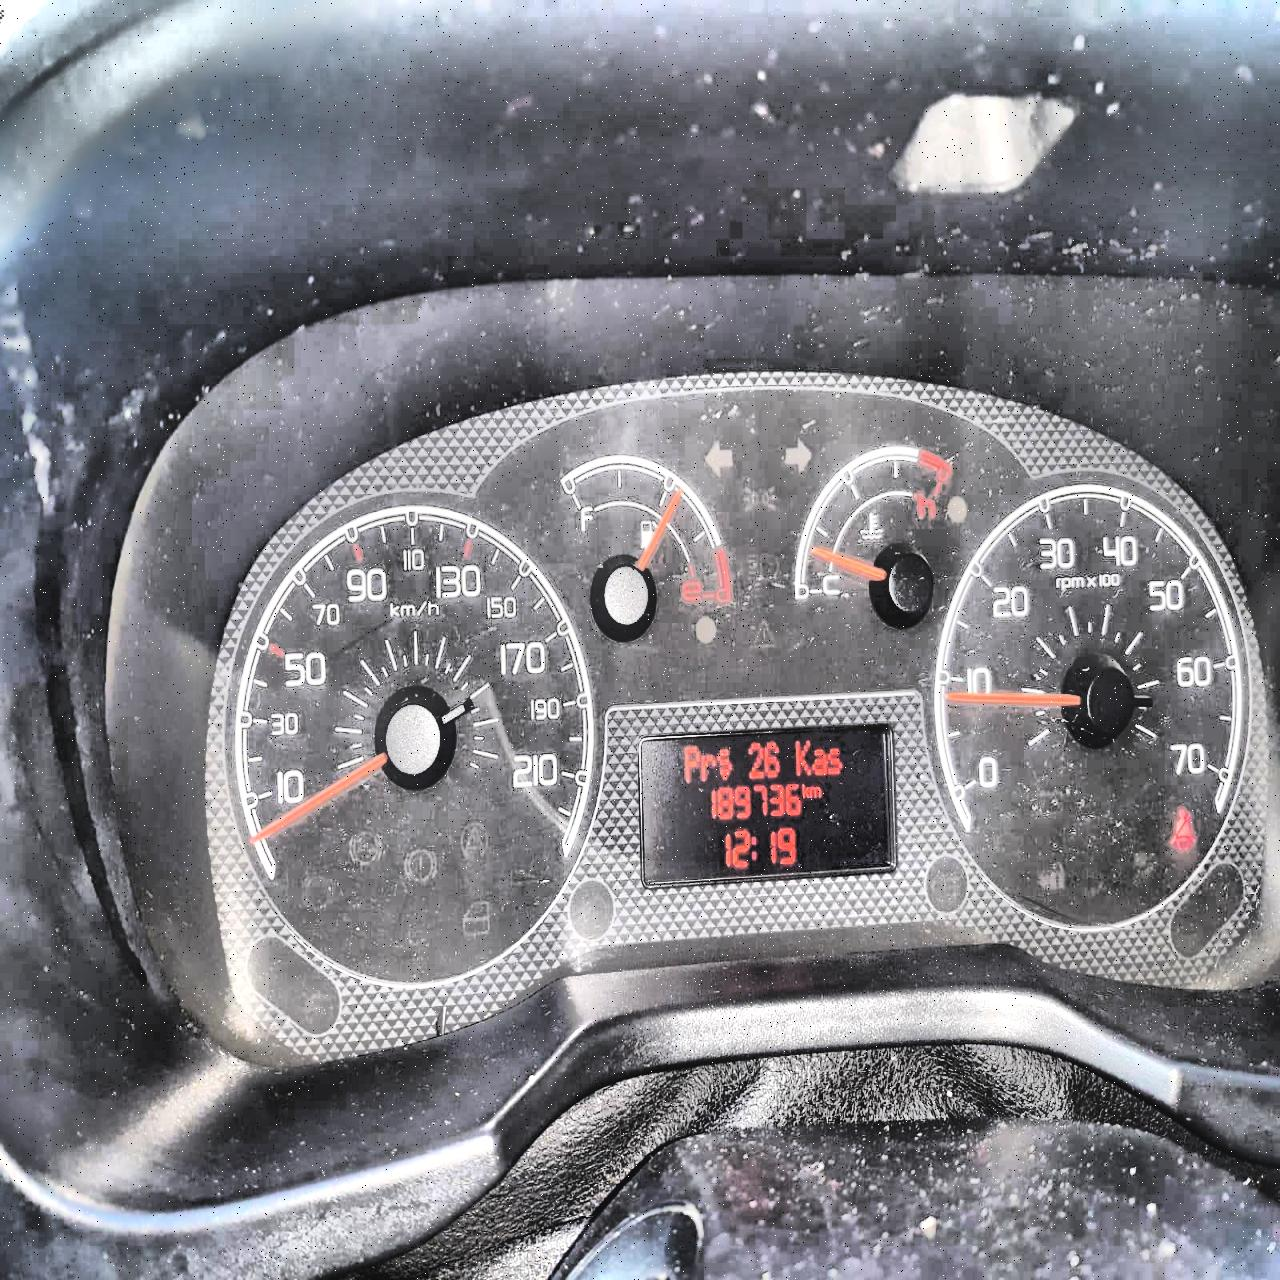1: (723, 832, 730, 867), (770, 830, 775, 863), (710, 790, 715, 819)
2: (731, 830, 749, 867), (747, 741, 763, 778)
3: (769, 783, 783, 815)
6: (764, 742, 779, 776), (785, 783, 799, 815)
7: (751, 784, 767, 815)
8: (717, 787, 733, 819)
9: (777, 826, 795, 864), (734, 785, 749, 817)
X: (795, 740, 811, 776), (685, 745, 699, 783), (715, 748, 731, 778), (826, 747, 842, 774), (811, 748, 826, 775), (700, 754, 715, 781), (809, 785, 821, 798), (750, 836, 756, 859), (801, 783, 809, 798)
odometer: (636, 721, 897, 890)
